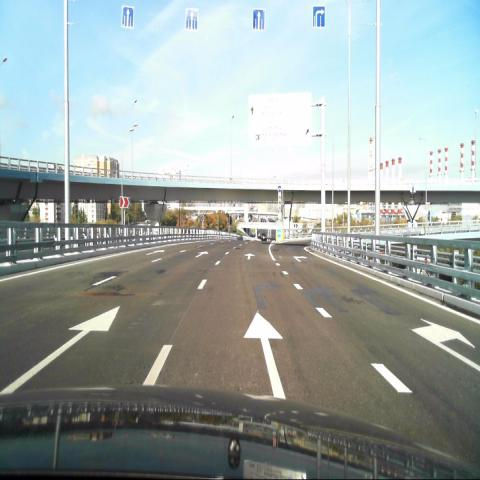5_15_2: (121, 4, 135, 30), (313, 5, 325, 28)
